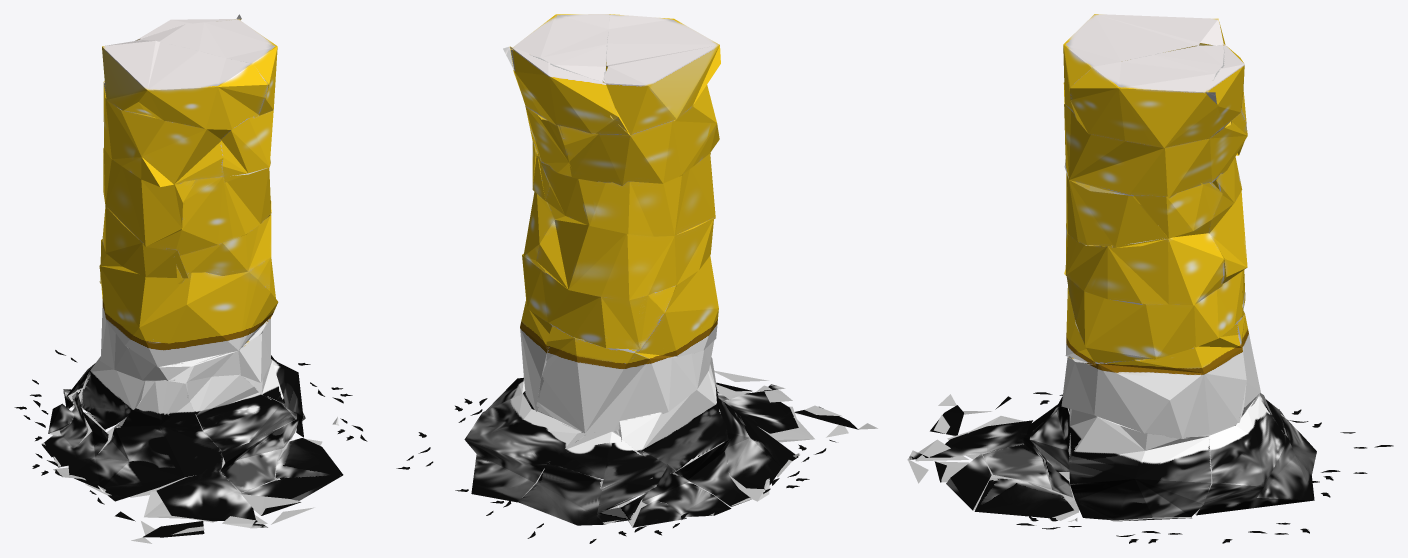
The model's file is cigarette_shorter4f.glb.
3 renders of one model, left to right at view 1: azimuth 30°, elevation 25°; view 2: azimuth 150°, elevation 25°; view 3: azimuth 270°, elevation 25°, orthographic. The views are drawn at different scales.
Parts seen in each view (by area): view 1: tripo_node_c5ac0d31-c7cd-43ed-b644-0830fcdc9b5b; view 2: tripo_node_c5ac0d31-c7cd-43ed-b644-0830fcdc9b5b; view 3: tripo_node_c5ac0d31-c7cd-43ed-b644-0830fcdc9b5b.
Boxes of the visible parts, <box> form: tripo_node_c5ac0d31-c7cd-43ed-b644-0830fcdc9b5b: <box>41,14,343,543</box>; tripo_node_c5ac0d31-c7cd-43ed-b644-0830fcdc9b5b: <box>464,14,877,527</box>; tripo_node_c5ac0d31-c7cd-43ed-b644-0830fcdc9b5b: <box>907,14,1316,521</box>.
Size of the model in its own units: 0.4331 by 0.5107 by 0.5203.
67 materials, 1 textured.
